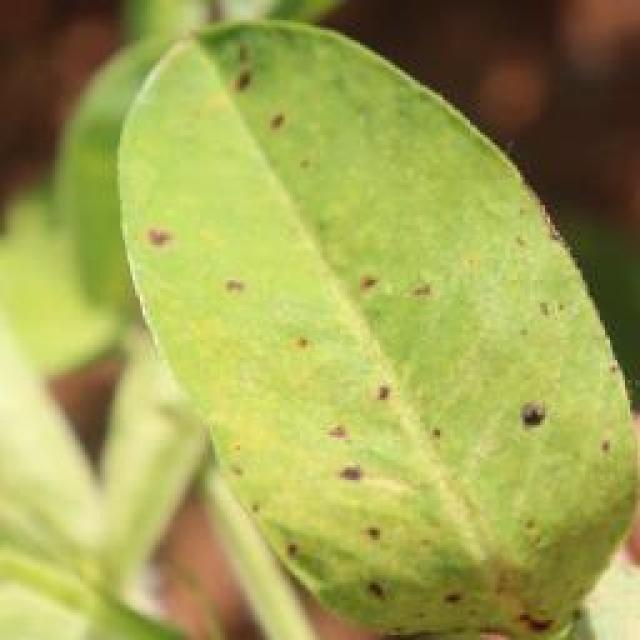Sigatoka: (290, 402, 387, 512), (228, 47, 320, 162), (349, 508, 422, 616), (359, 256, 490, 310), (374, 366, 459, 439), (572, 390, 630, 480), (527, 199, 593, 264), (492, 374, 566, 430), (195, 251, 268, 307), (506, 587, 572, 639), (516, 262, 576, 315), (269, 317, 330, 365), (425, 576, 483, 620), (136, 209, 188, 256)
